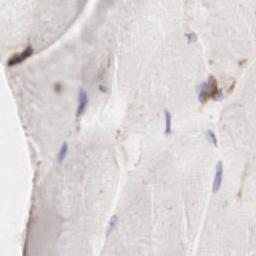nucleus: (75, 88, 90, 118), (212, 161, 223, 194), (105, 215, 118, 237), (57, 141, 69, 163), (165, 112, 172, 136), (208, 128, 217, 146), (186, 32, 198, 43), (198, 82, 207, 93), (24, 47, 33, 55), (99, 85, 108, 92), (217, 90, 224, 99), (199, 93, 203, 101)
positive_cell: (209, 74, 225, 100), (11, 48, 34, 63), (198, 81, 210, 102)
